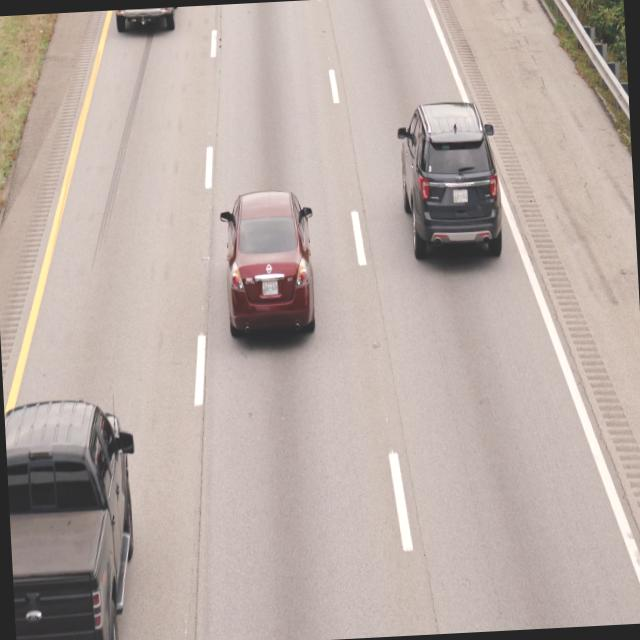Vehicle: (4, 394, 148, 640), (396, 98, 510, 264), (216, 188, 322, 344), (111, 6, 186, 34)
